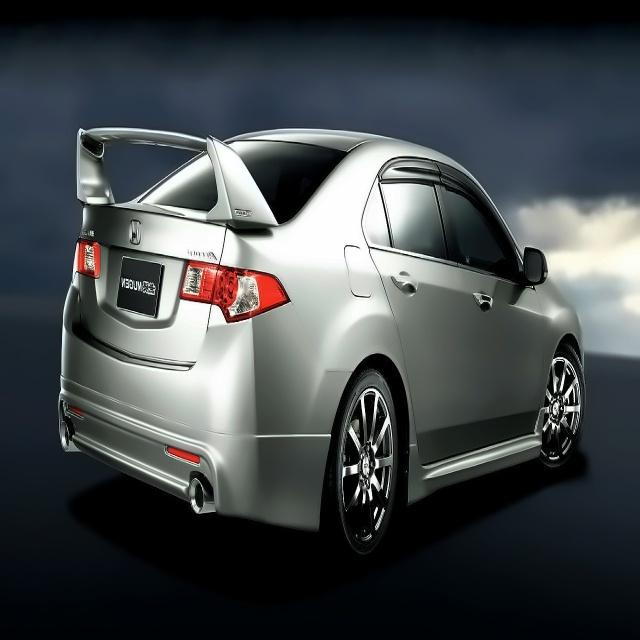Car boot: (69, 198, 243, 368)
Driver-s door - -F-R-: (416, 118, 541, 486)
Fender - -F-R-: (526, 259, 587, 433)
Fender - -R-R-: (260, 136, 409, 412)
Passenger-s door - -R-R-: (354, 123, 486, 510)
Rear bumper: (46, 323, 341, 543)
Rear light - -L-: (67, 237, 105, 284)
Rear light - -R-: (175, 257, 291, 326)
Side bumper - -R-: (402, 404, 554, 536)
Side mirror - -R-: (513, 239, 548, 305)
